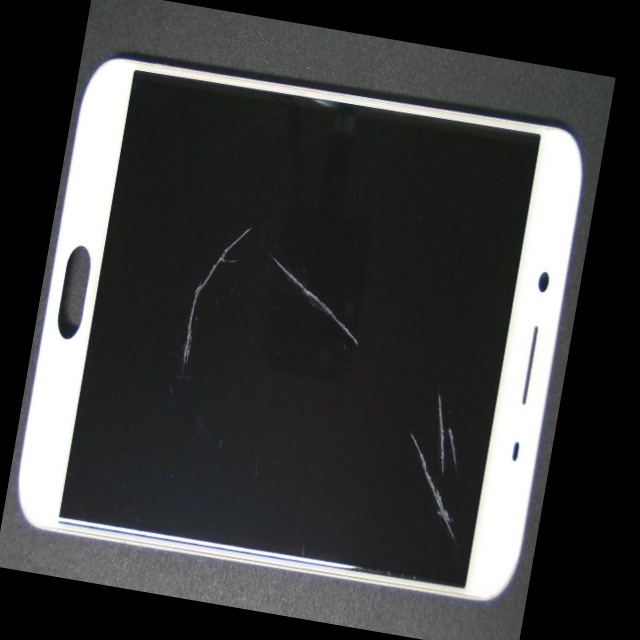scratch: (207, 269, 574, 640), (253, 331, 565, 640), (244, 218, 505, 472), (155, 41, 349, 350)
